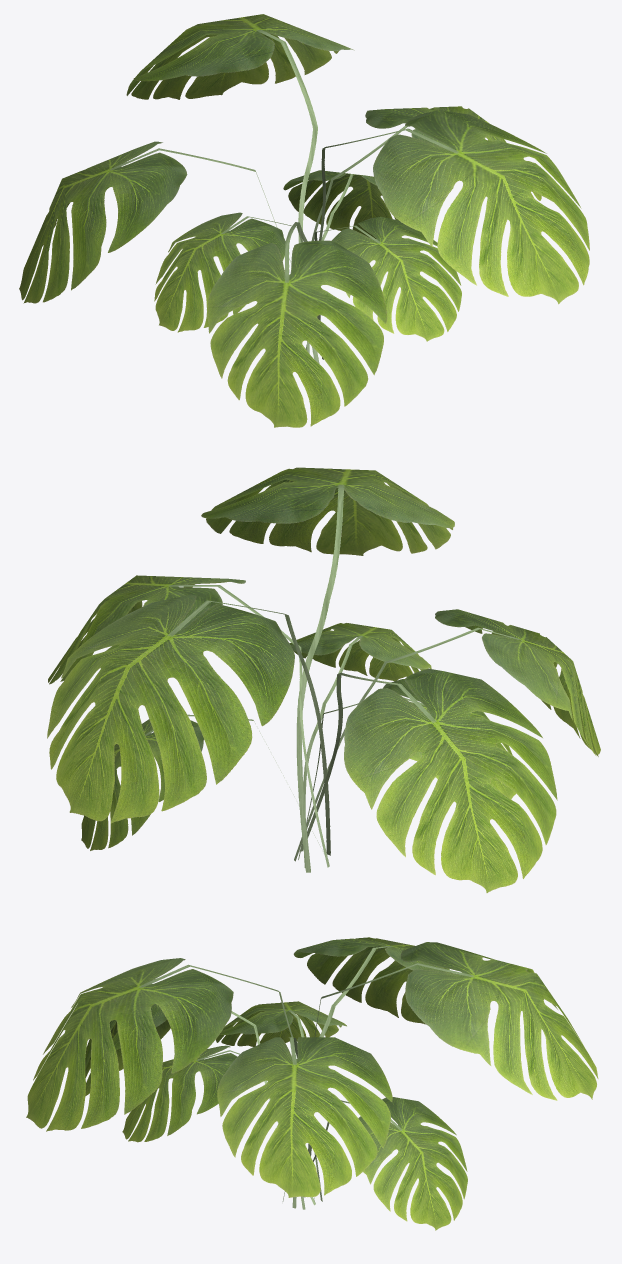
The model's file is prop_plantjungle.FBX.
3 views of the same model, one above another, from view 1: azimuth 30°, elevation 25°; view 2: azimuth 150°, elevation 25°; view 3: azimuth 270°, elevation 25° (orthographic). The views are drawn at different scales.
Parts seen in each view (by area): view 1: Plane005; view 2: Plane005; view 3: Plane005.
Part boxes in pixels (x1,y1,x2,y2): Plane005: (19, 14, 589, 427); Plane005: (47, 467, 600, 892); Plane005: (26, 937, 598, 1230).
Size of the model in its own units: 2.37 by 1.3 by 2.72.
1 material, 1 textured.
